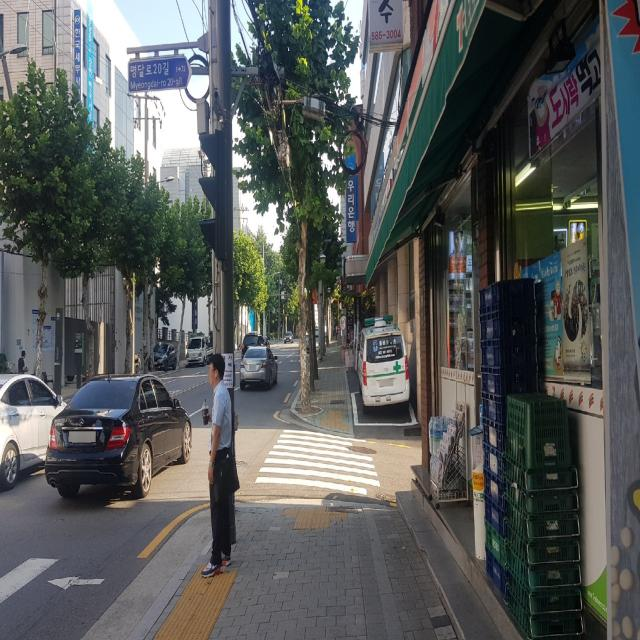횡단보도: (254, 429, 381, 496)
